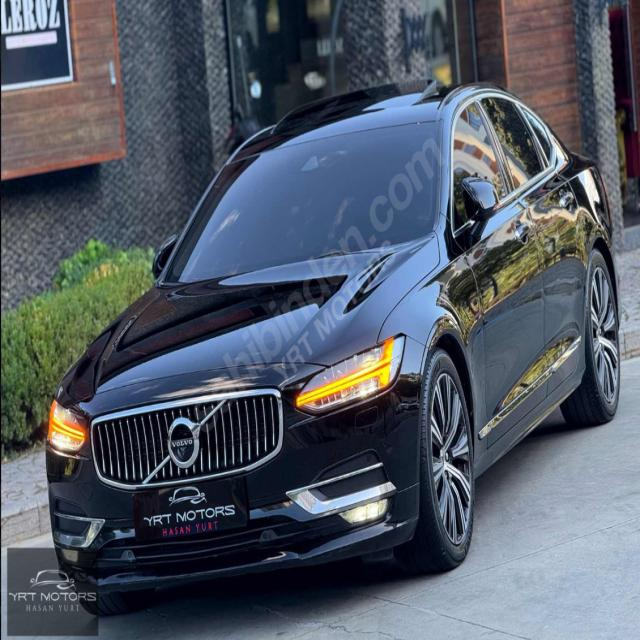volvo: (166, 413, 202, 471)
